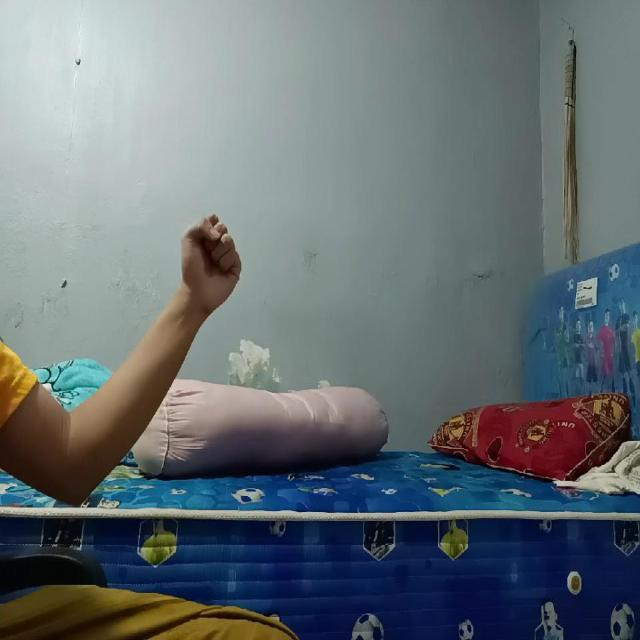fist: (174, 207, 244, 317)
